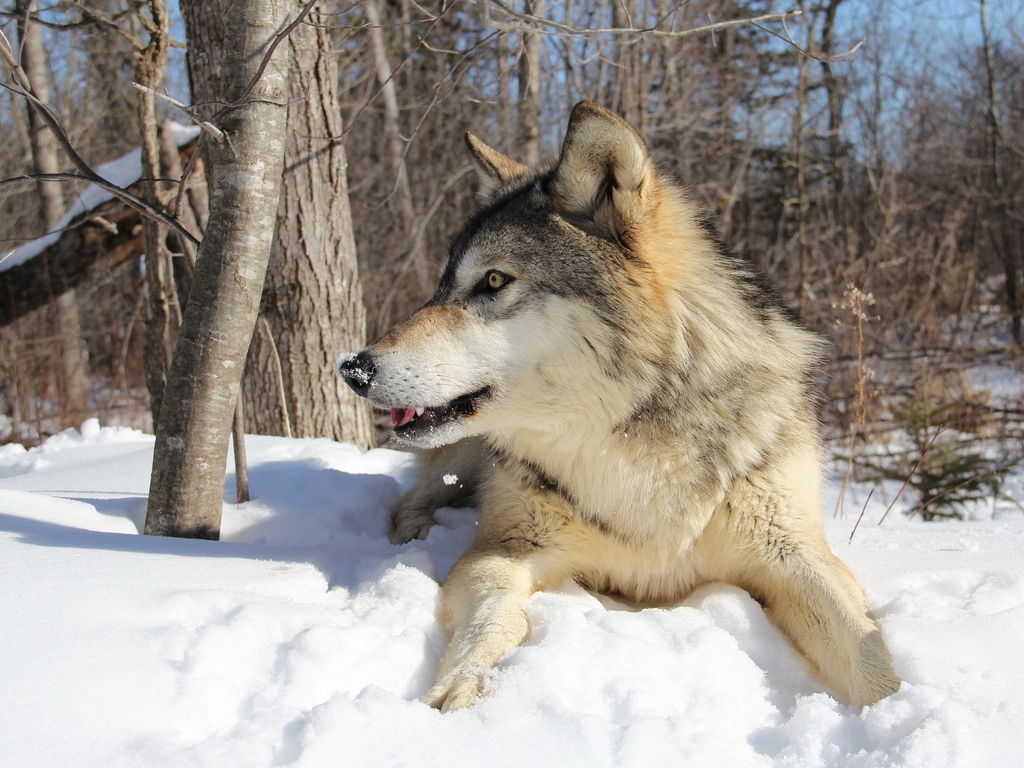wolf: (332, 100, 924, 723)
